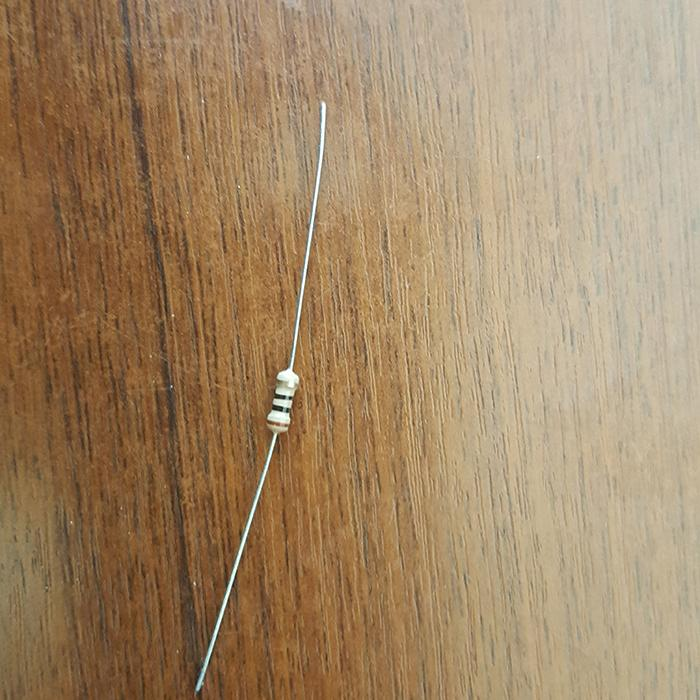resistor: (264, 369, 300, 434)
